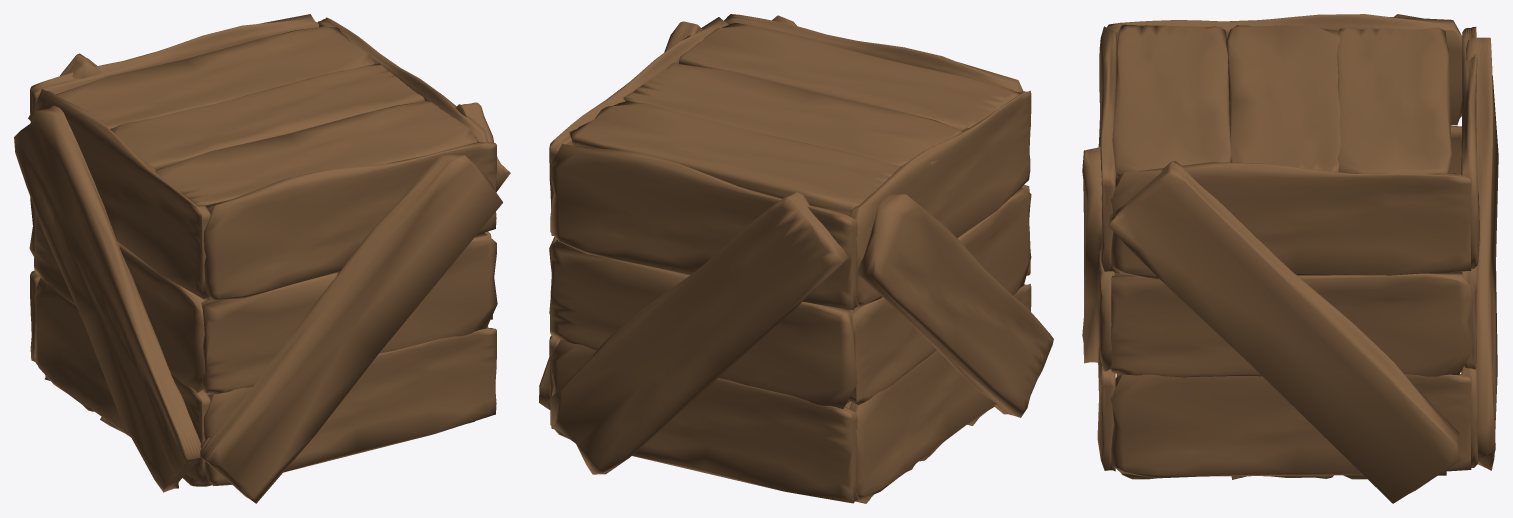
The model's file is drops.fbx.
3 views of the same model, side by side, from view 1: azimuth 30°, elevation 25°; view 2: azimuth 150°, elevation 25°; view 3: azimuth 270°, elevation 25° (orthographic). The views are drawn at different scales.
Visible parts, largest first — view 1: Cube; view 2: Cube; view 3: Cube.
Part boxes in pixels (x1,y1,x2,y2): Cube: (14,14,510,503); Cube: (539,14,1053,503); Cube: (1082,14,1498,503).
Bounding box in the file's own units: 427 × 379 × 427.
